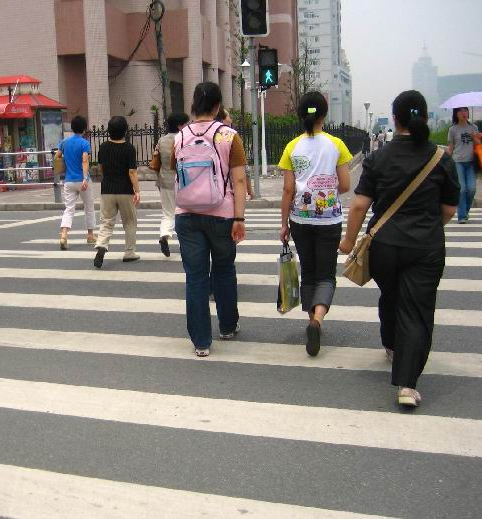pedestrian: (339, 90, 461, 406), (170, 82, 246, 356), (277, 92, 352, 358), (94, 116, 140, 267), (55, 115, 97, 250)
